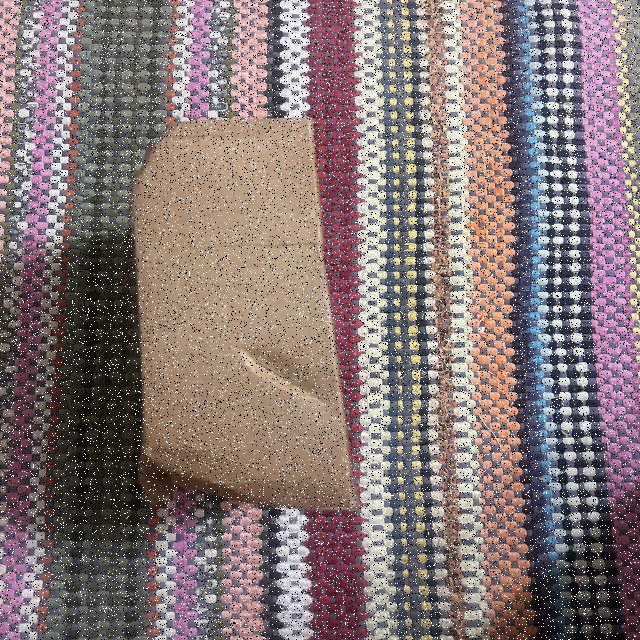damaged: (132, 114, 370, 519), (141, 429, 259, 512), (232, 330, 340, 417), (130, 110, 174, 182)
